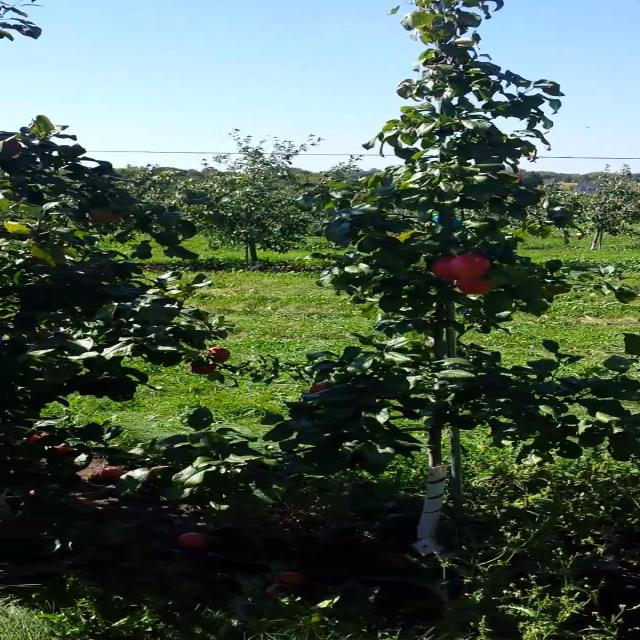apple: (449, 255, 492, 275), (431, 256, 462, 282), (456, 276, 494, 296), (89, 207, 121, 223), (203, 347, 230, 363), (188, 362, 218, 374), (2, 139, 25, 153), (311, 383, 329, 393), (55, 446, 73, 456), (26, 436, 44, 442)
